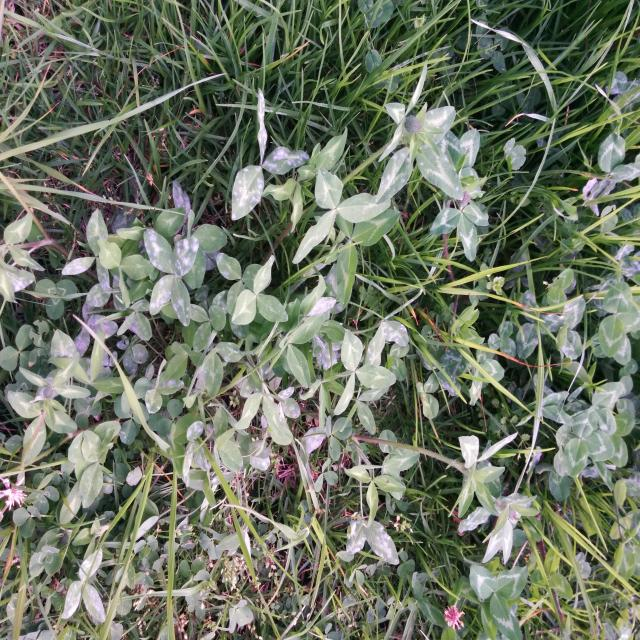Four Leaf Clover: (143, 229, 198, 326)
